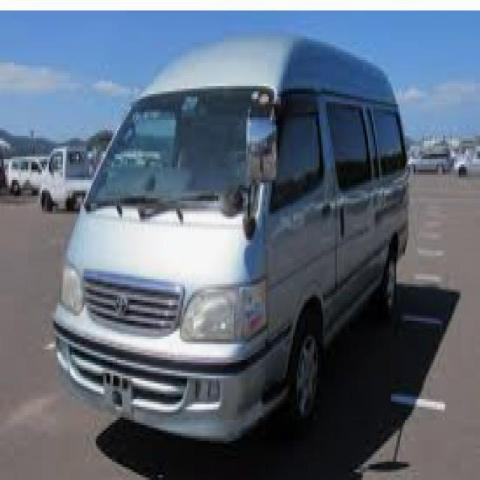van: (56, 32, 414, 439)
